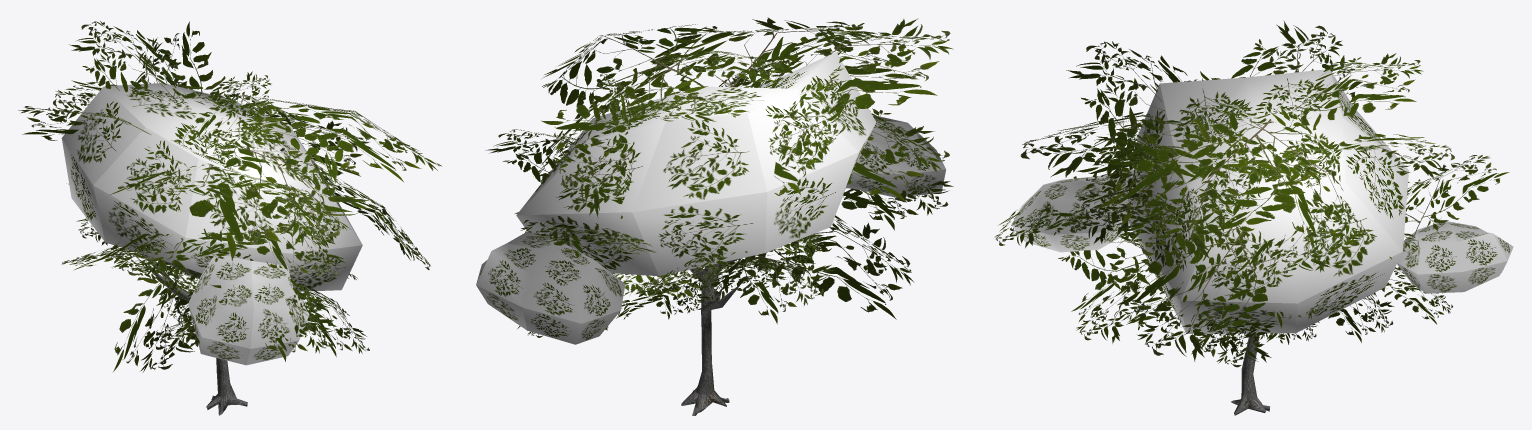
The model's file is TreeHighQualityHybrid.fbx.
3 renders of one model, left to right at view 1: azimuth 30°, elevation 25°; view 2: azimuth 150°, elevation 25°; view 3: azimuth 270°, elevation 25°, orthographic. The views are drawn at different scales.
Parts seen in each view (by area): view 1: TreeHighQuality.003; view 2: TreeHighQuality.003; view 3: TreeHighQuality.003.
Part boxes in pixels (bbox=[...]): TreeHighQuality.003: bbox=[18, 21, 441, 415]; TreeHighQuality.003: bbox=[476, 17, 953, 415]; TreeHighQuality.003: bbox=[994, 20, 1513, 415].
Bounding box in the file's own units: 1558 × 1416 × 2076.
